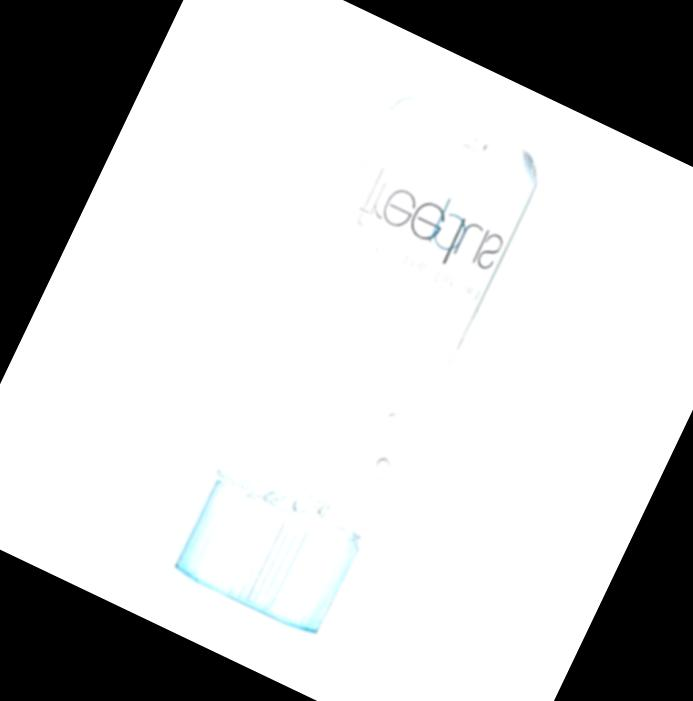cosmetic: (174, 85, 553, 637)
